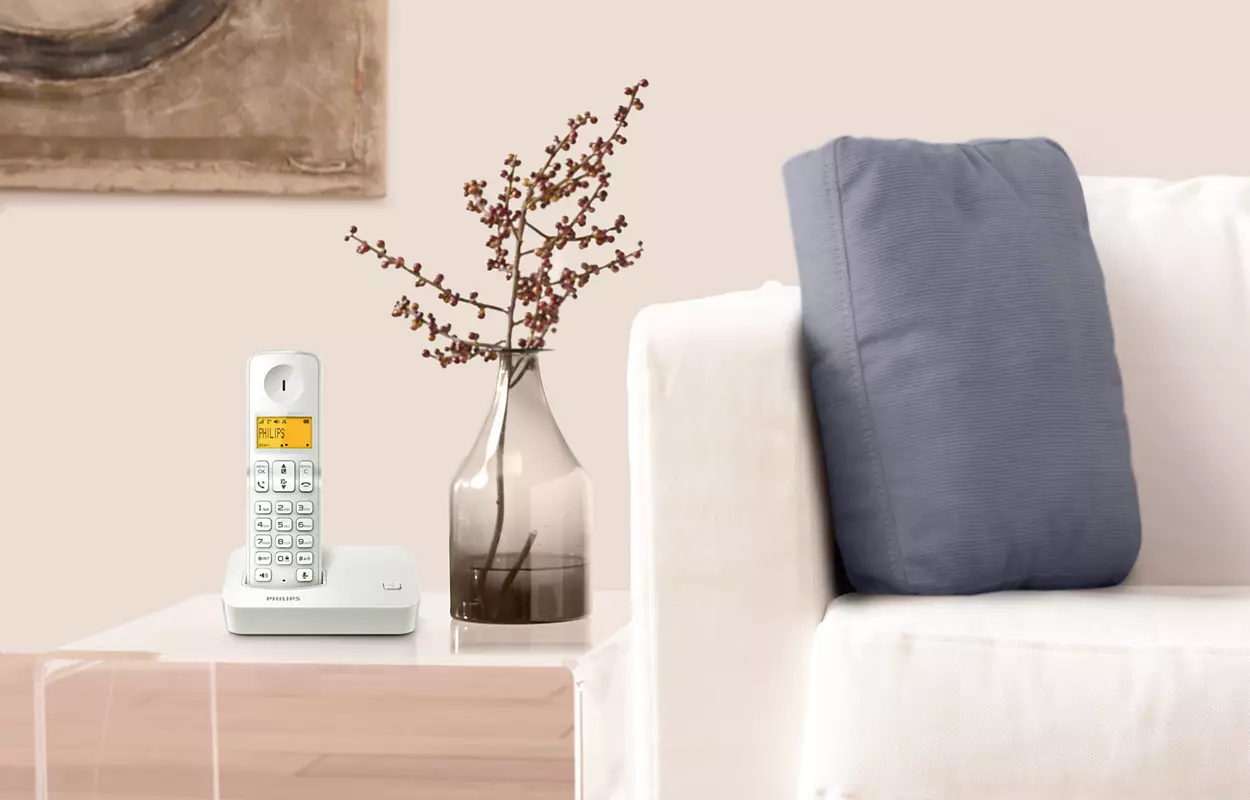telephone: (244, 351, 328, 593)
